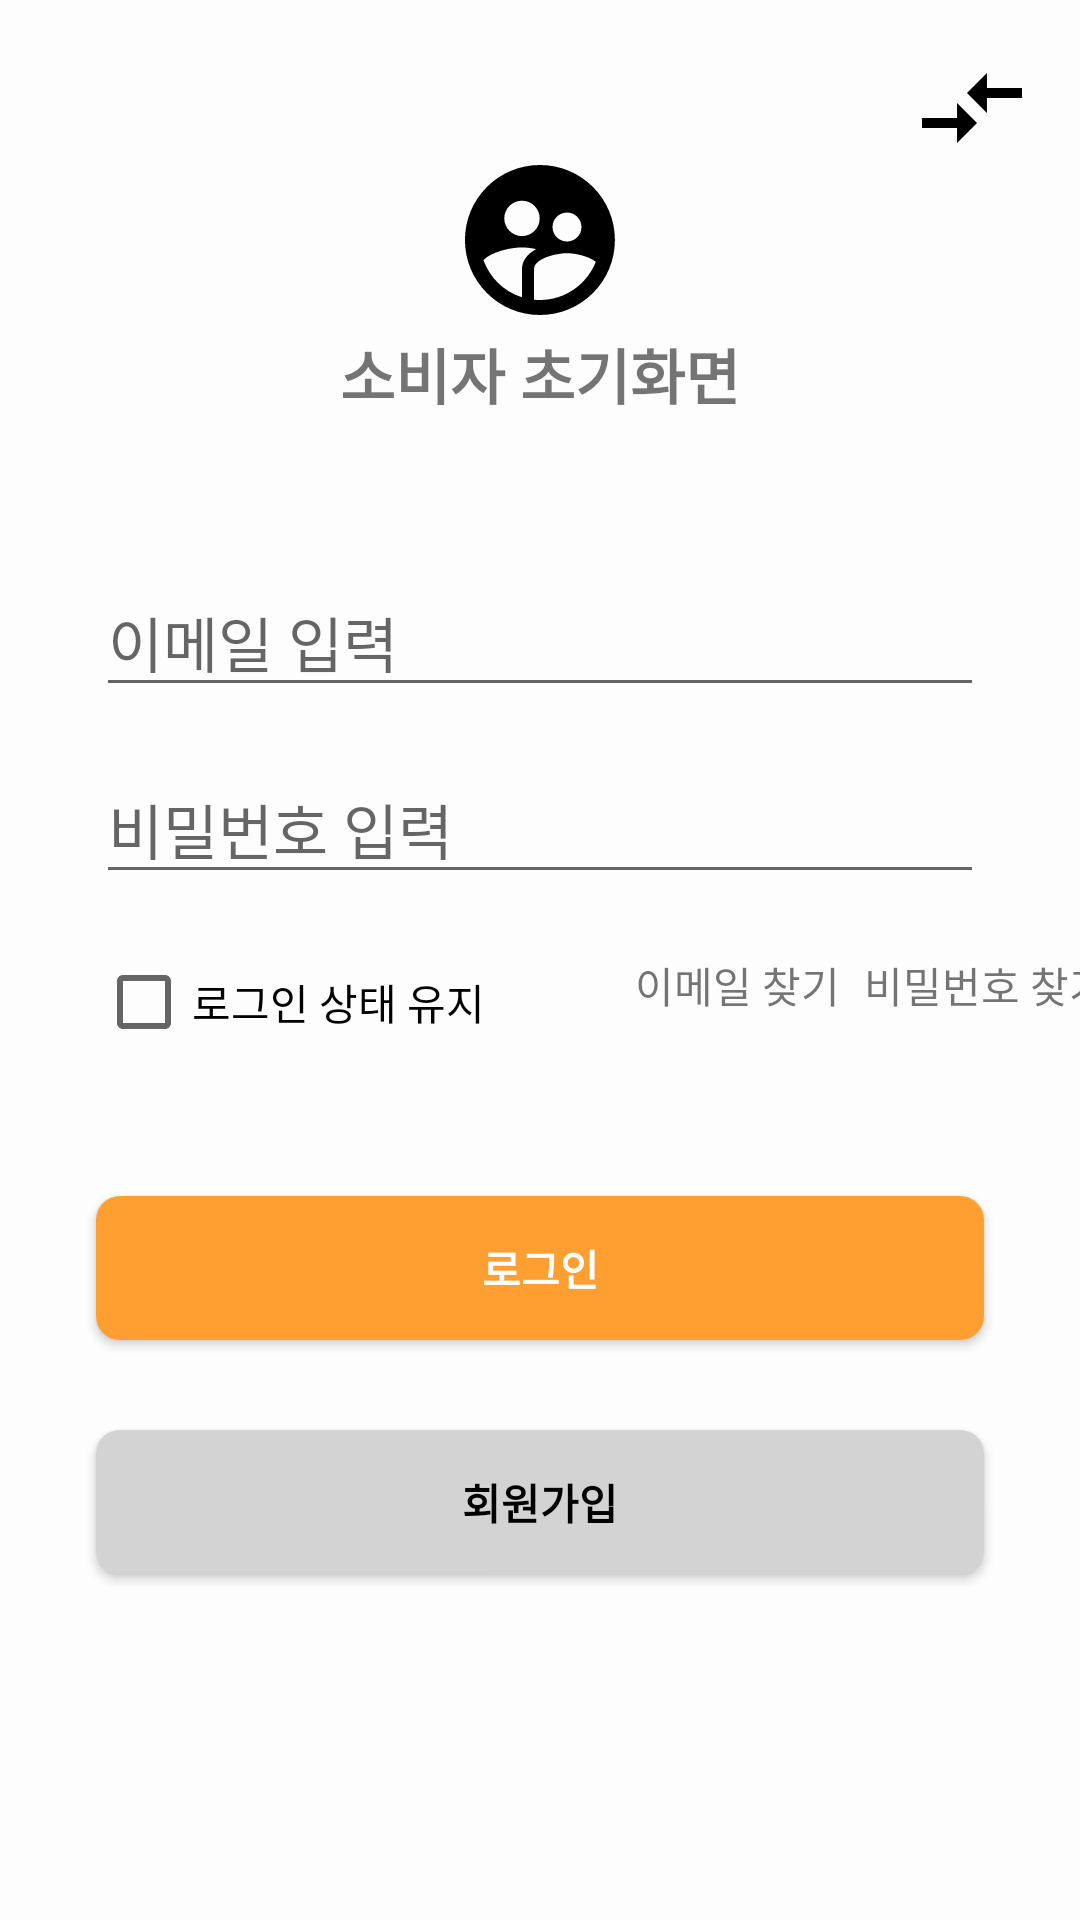

Named icons in this screenshot (1080 x 1920) and their bounding boxes, (x1, y1, x2, y2):
compare arrows: (922, 73, 1022, 143)
